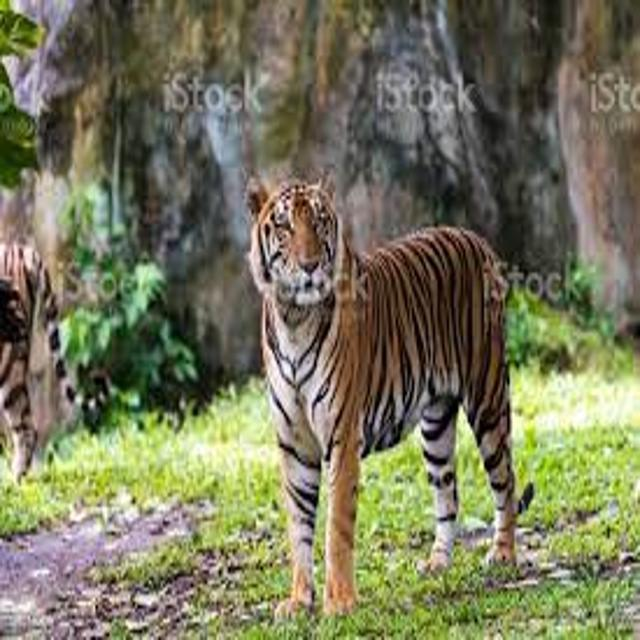Tiger: (234, 126, 556, 602)
